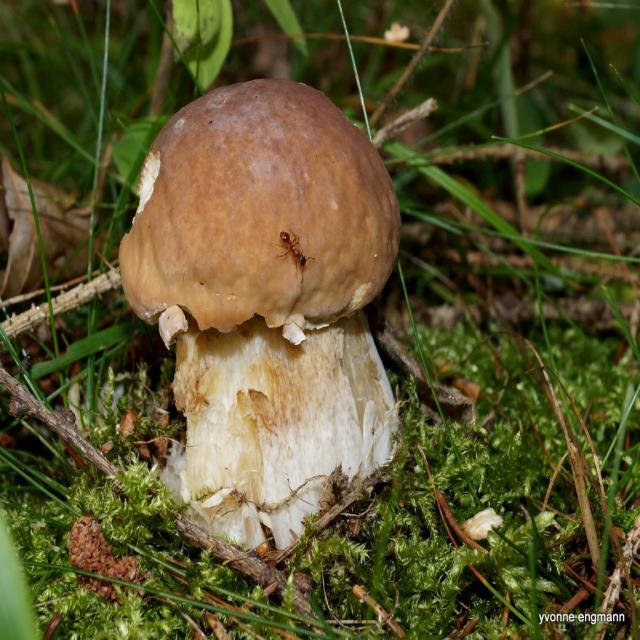Boletus: (118, 81, 405, 556)
